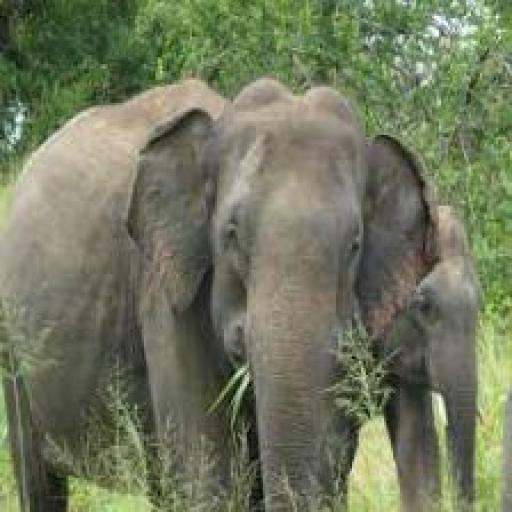Elephant: (14, 32, 511, 512)
